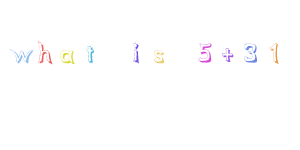+: (219, 46, 239, 67)
1: (266, 39, 284, 64)
3: (241, 39, 260, 66)
5: (194, 37, 214, 68)
a: (56, 47, 79, 68)
h: (36, 35, 53, 67)
i: (125, 38, 143, 69)
s: (149, 46, 170, 67)
t: (83, 42, 100, 67)
w: (8, 42, 33, 66)
